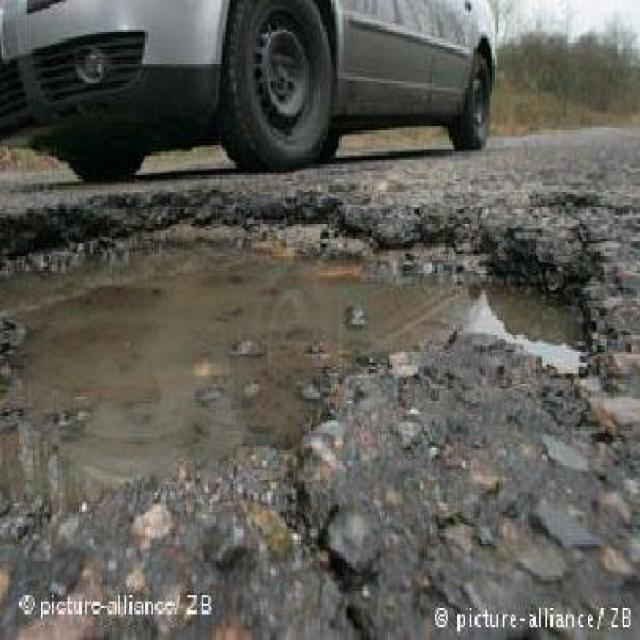buraco: (0, 177, 610, 544), (0, 186, 597, 532)
